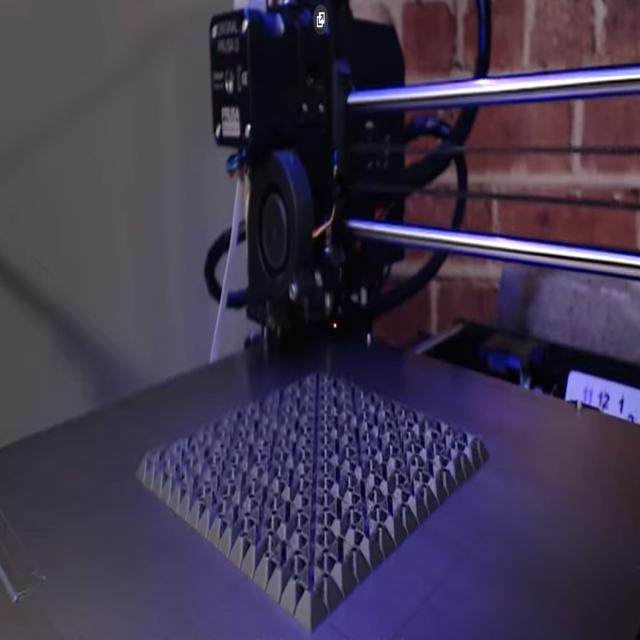Without deffect: (142, 359, 495, 630)
